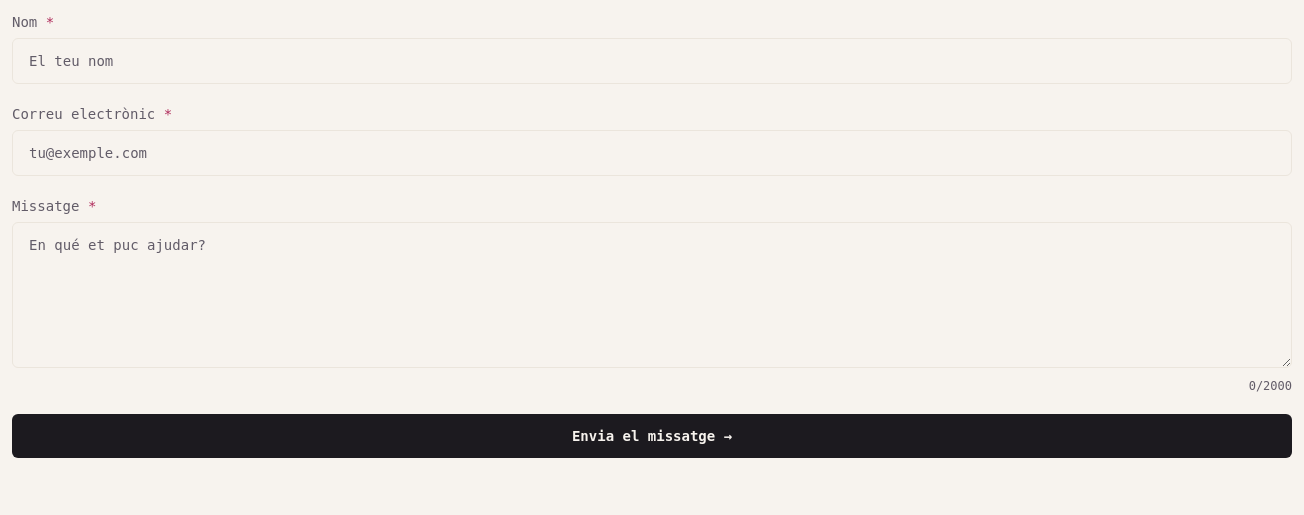
Test: ContactForm — error states › shows fallback error message when response has no error field
Step 1. Type "Anna Garcia" into the field labelled "Nom *" → (652, 61), box [12,38,1292,84]
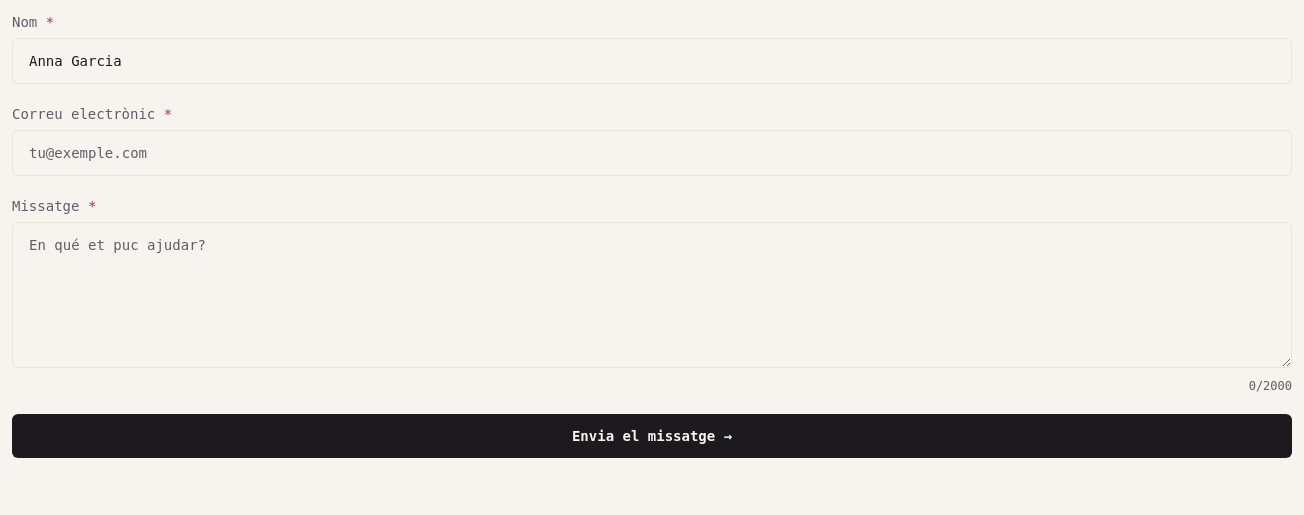
Step 2. Type "anna@exemple.com" into the field labelled "Correu electrònic *" → (652, 153), box [12,130,1292,176]
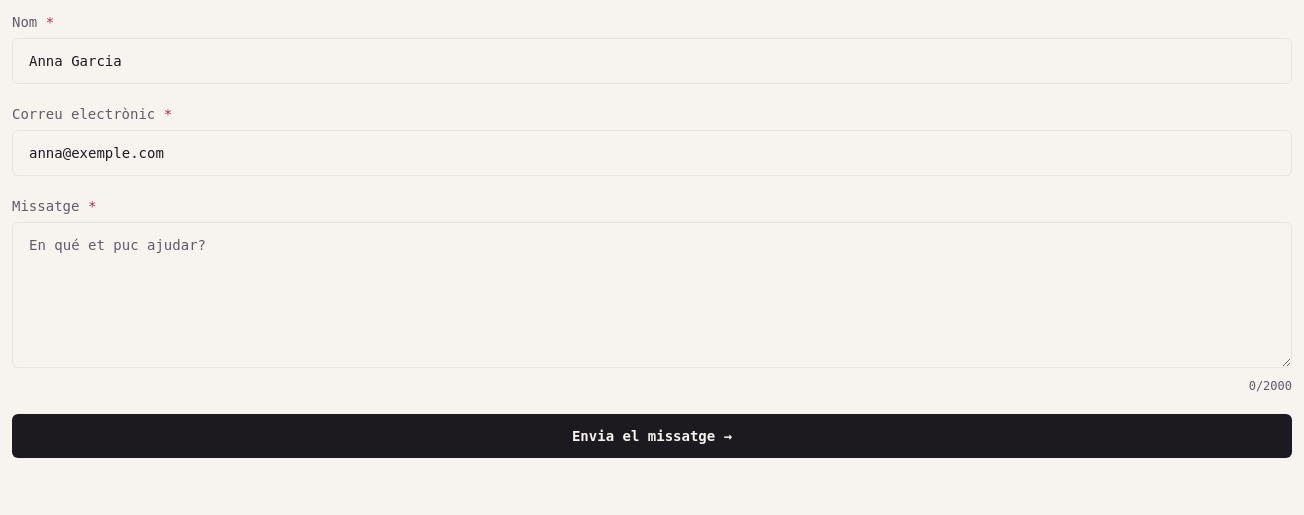
Step 3. Type "Hola, tinc una pregunta!" into the text box labelled "Missatge *" → (652, 295), box [12,222,1292,368]
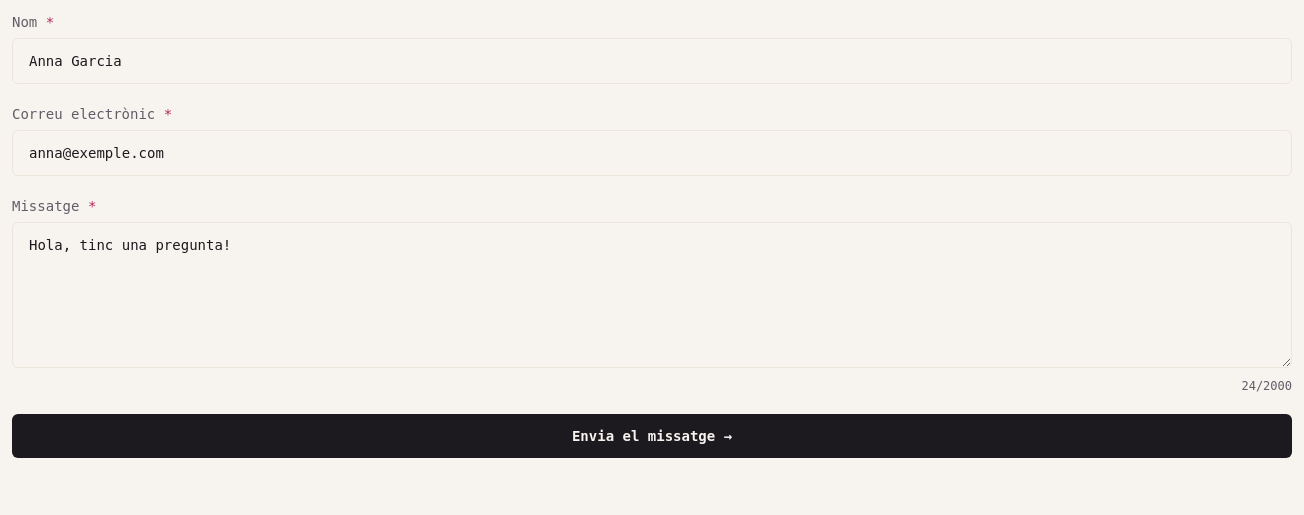
Step 4. Submit the form
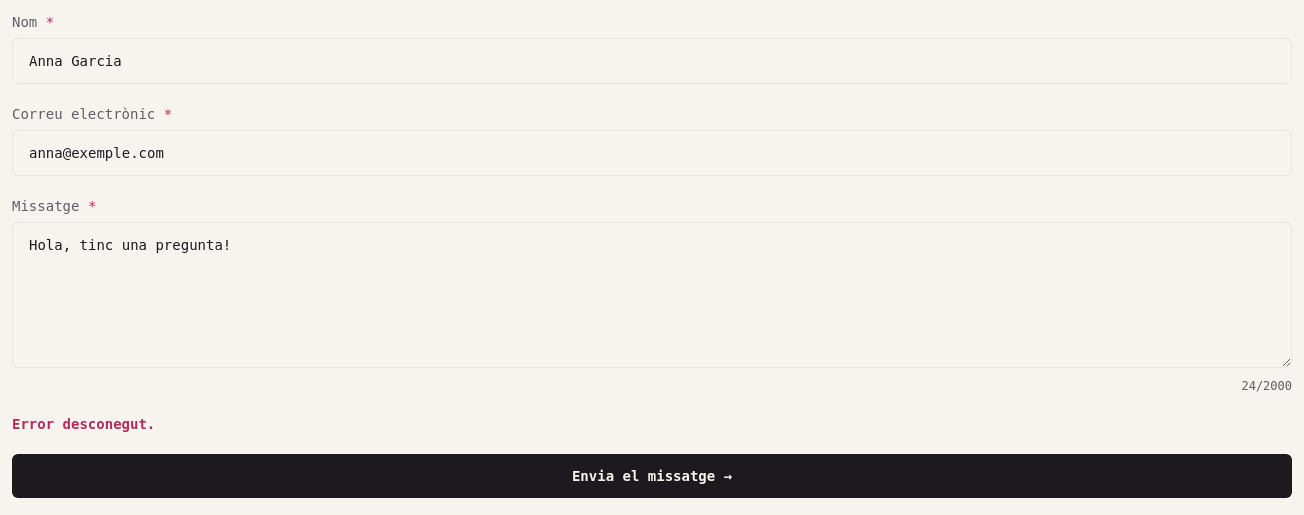
Expected: the text "Error desconegut." is shown, [12,416,155,432]
